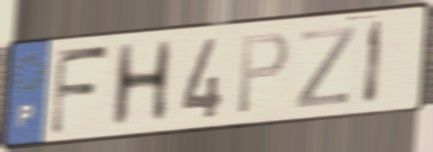4: (178, 35, 225, 122)
F: (47, 44, 113, 139)
H: (107, 37, 177, 133)
I: (360, 17, 387, 108)
P: (234, 29, 291, 118)
Z: (293, 22, 358, 111)
